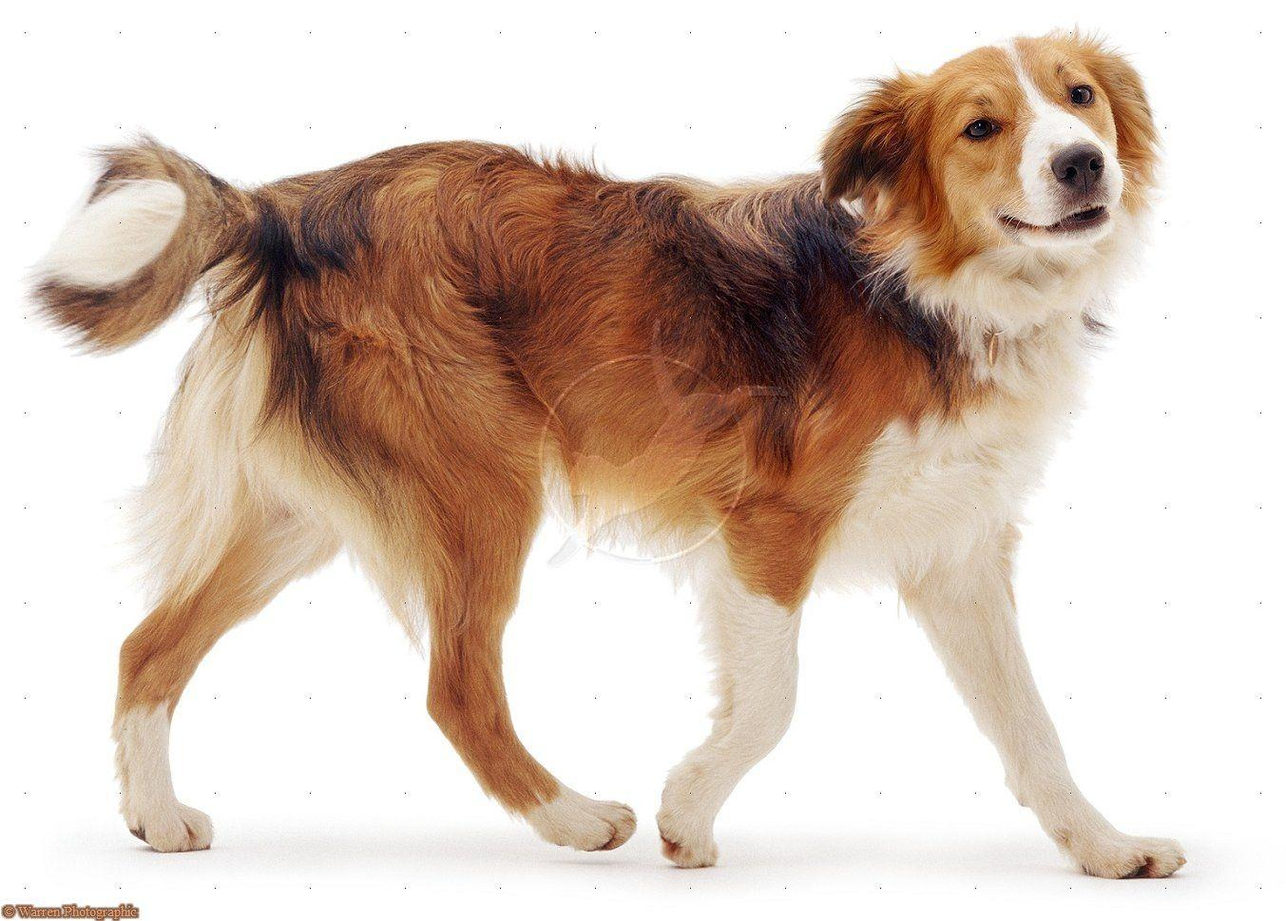adult_dog: (20, 20, 1192, 882)
